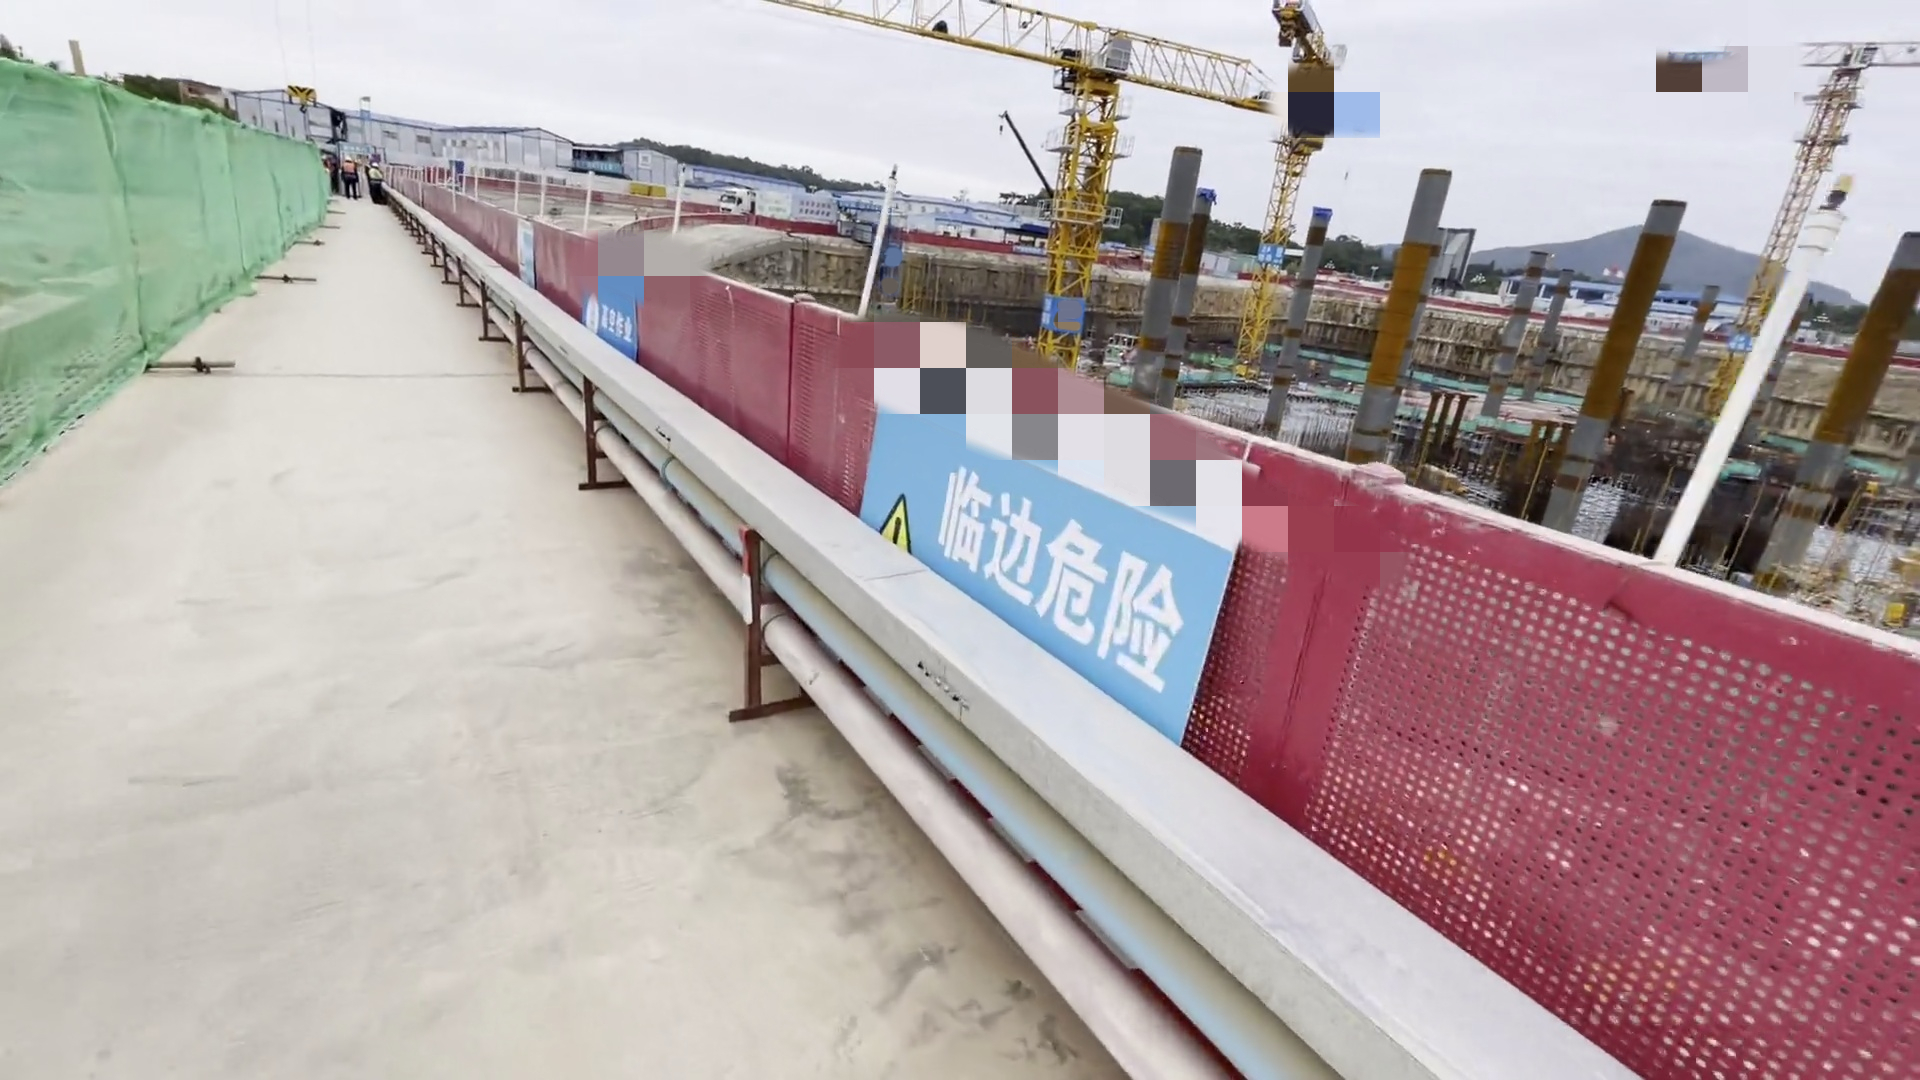fence: (467, 59, 1817, 1025)
hook: (277, 82, 324, 125)
person: (331, 151, 361, 207), (366, 152, 393, 210)
slogan: (899, 394, 1204, 681), (566, 243, 657, 371), (500, 215, 559, 337)
